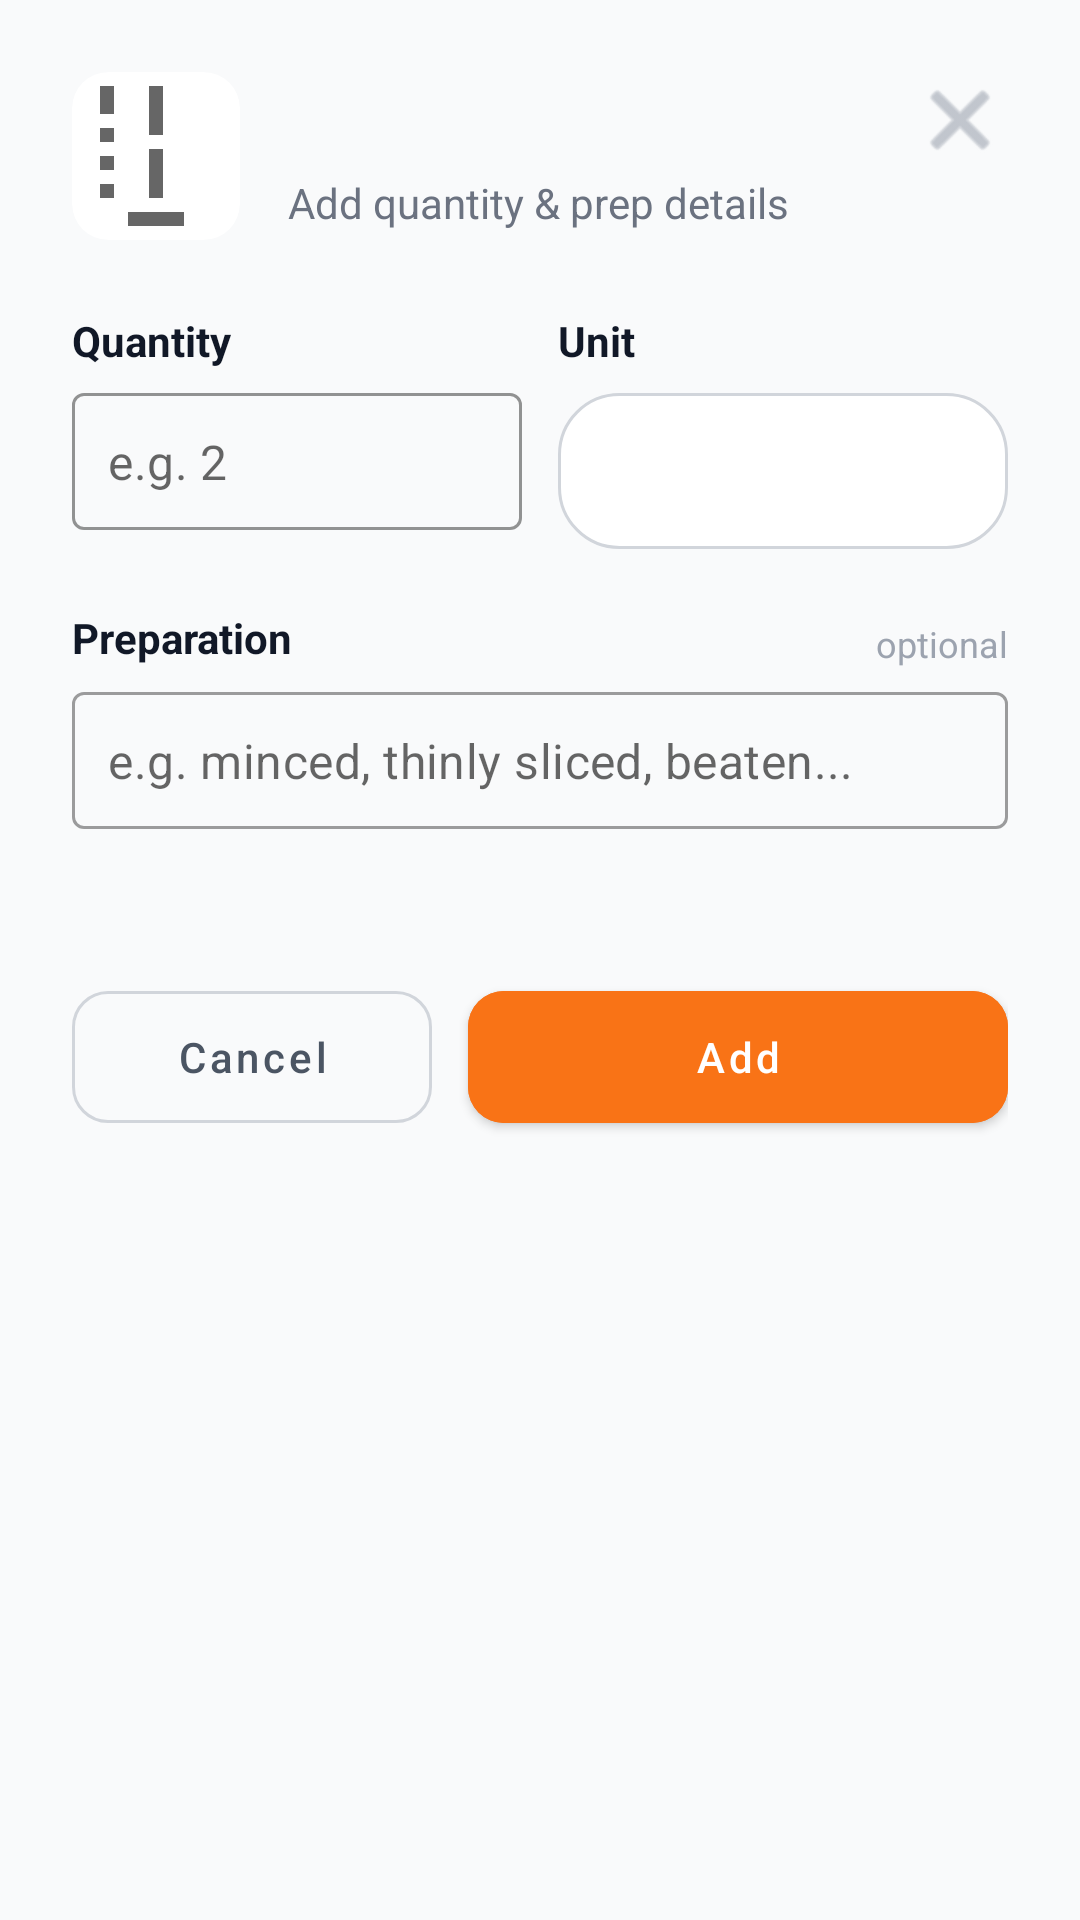

Where icons sit on this 1080px×1920px app screen, as (x1, y1, x2, y2):
close clear cancel: (931, 91, 989, 149)
